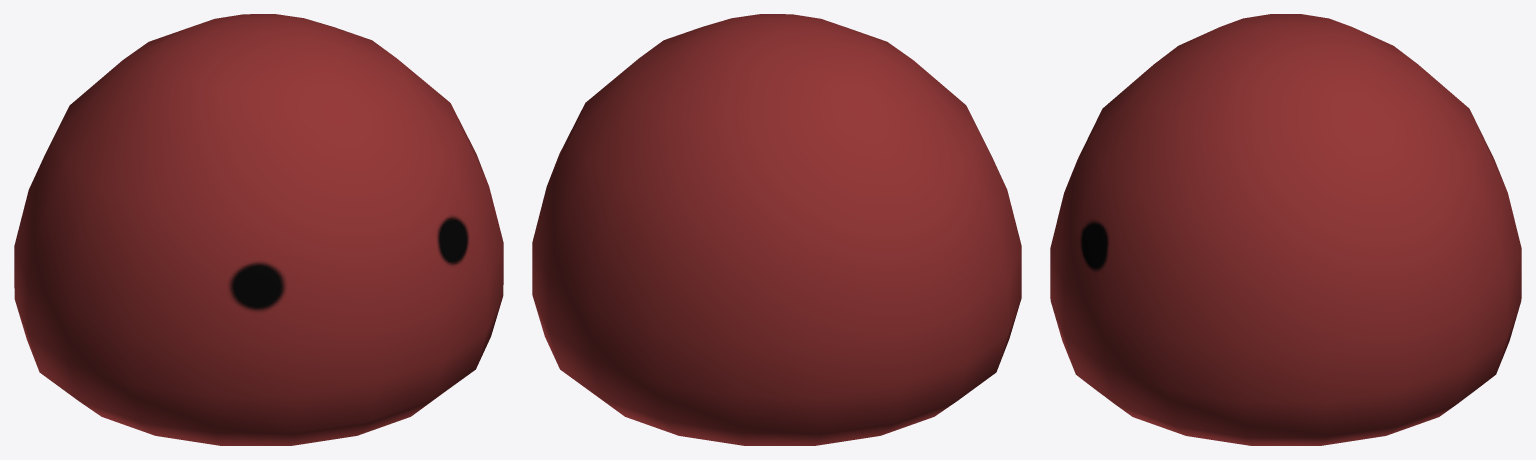
File: enemy_slime.FBX
3 views of the same model, side by side, from view 1: azimuth 30°, elevation 25°; view 2: azimuth 150°, elevation 25°; view 3: azimuth 270°, elevation 25° (orthographic).
Parts seen in each view (by area): view 1: enemy_slime; view 2: enemy_slime; view 3: enemy_slime.
Part boxes in pixels (box(x1,y1,x2,y2)): enemy_slime: box(14, 14, 503, 445); enemy_slime: box(532, 14, 1021, 445); enemy_slime: box(1050, 14, 1521, 445).
Size of the model in its own units: 8.45 by 6.27 by 8.27.
